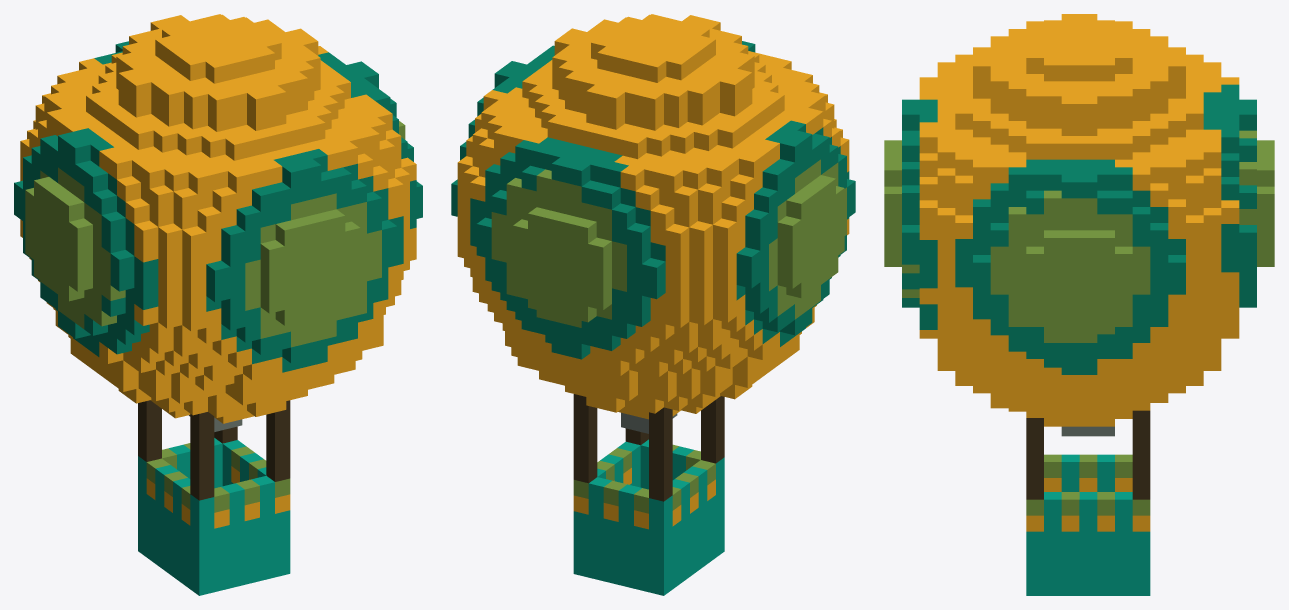
File: id-hotairballoon.obj
3 renders of one model, left to right at view 1: azimuth 30°, elevation 25°; view 2: azimuth 150°, elevation 25°; view 3: azimuth 270°, elevation 25°, orthographic. The views are drawn at different scales.
Bounding box in the file's own units: 22 × 33 × 22.
1 material, 1 textured.
